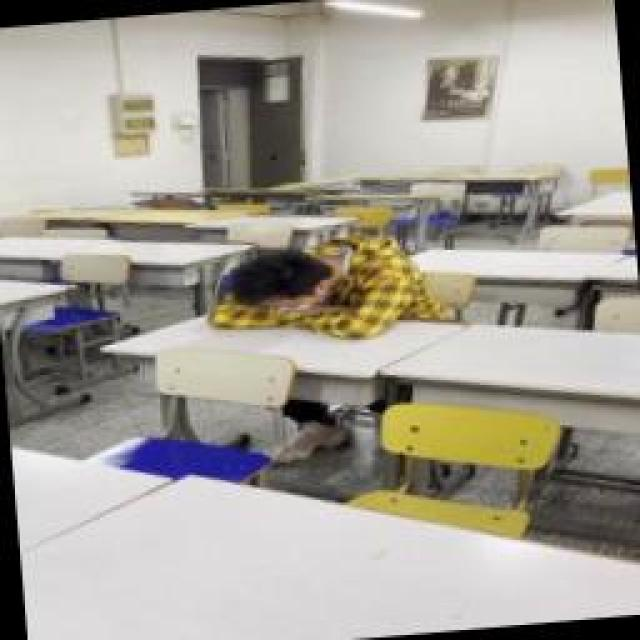sleep: (205, 225, 447, 350)
